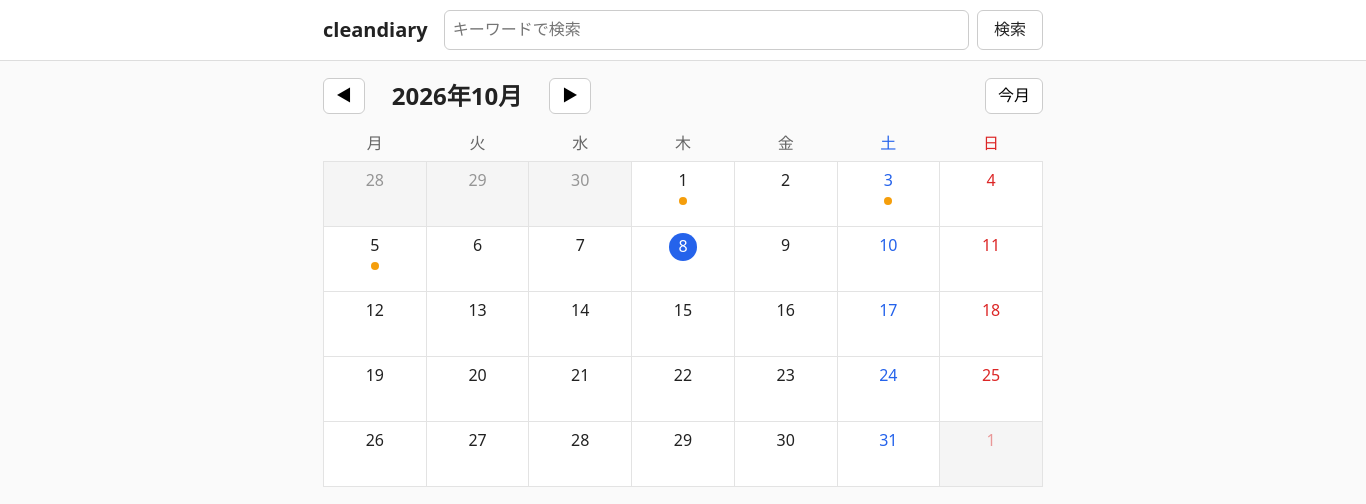
Test case: キーワード検索 › どの画面でもヘッダーから検索でき、検索結果画面へ移る
The width and height of the screenshot is (1366, 504).
Type "カレー" into the search field named "検索キーワード" at (706, 30), box [444, 10, 969, 50]
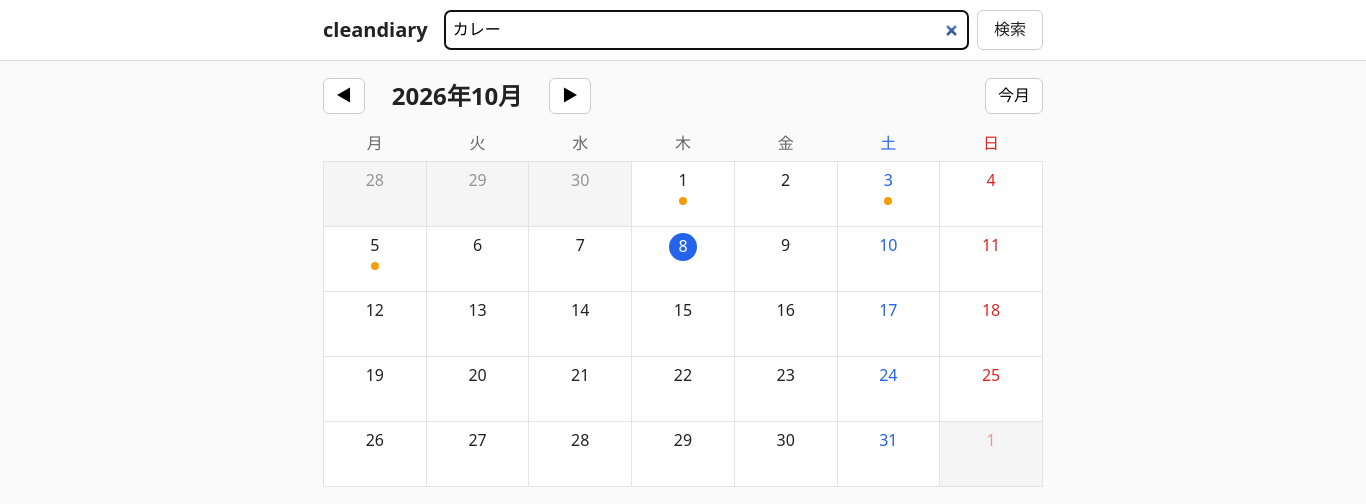
Click the button "検索" at (1010, 30), box [977, 10, 1043, 50]
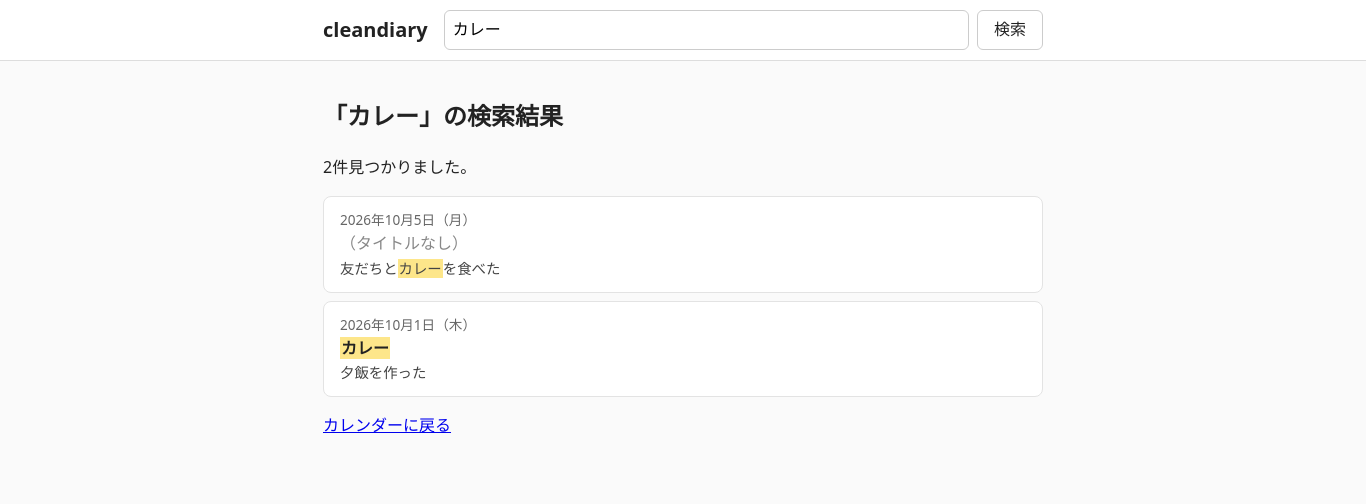
Now the heading "「カレー」の検索結果" is shown, box [323, 98, 563, 132]
